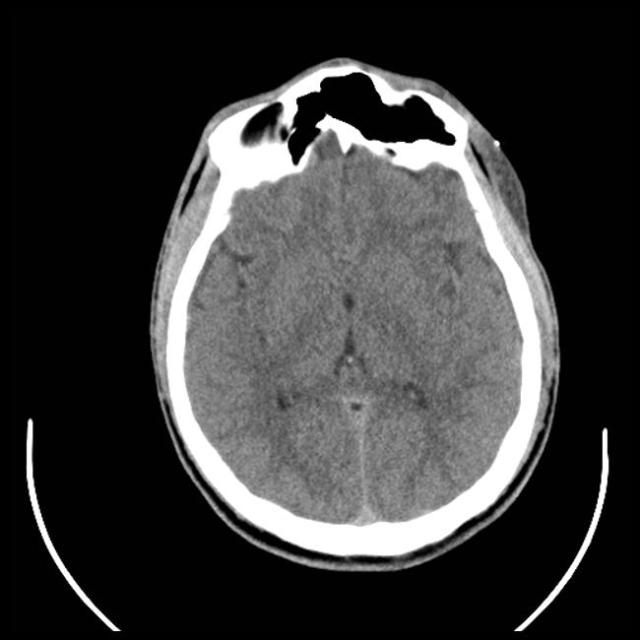lesion: (147, 57, 562, 567)
